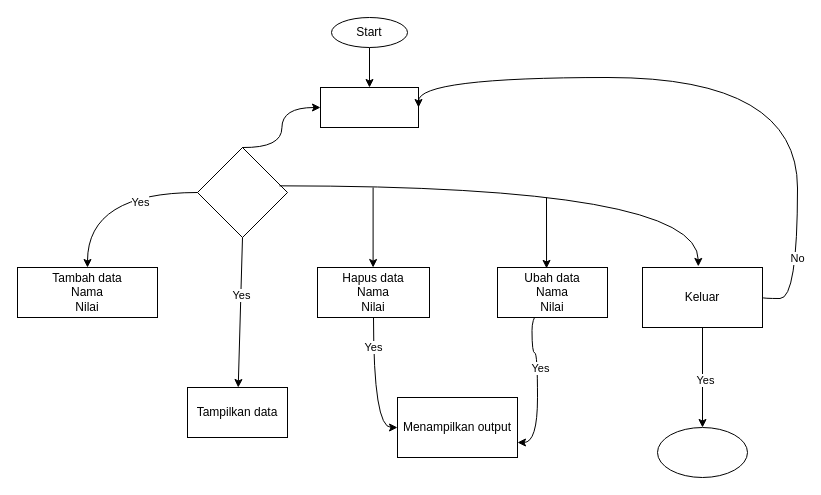
Some shapes in this 821 by 495 pixel diagram are drawn without their labels. Here are the shapes that lost their labels. From the top down, the centre of each, then its label:
At (x=369, y=107): "Tampilkan Menu".
At (x=242, y=192): "Menu Pilihan 1-5".
At (x=702, y=452): "End".
